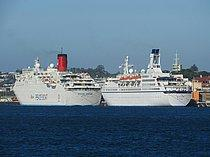Ship: (100, 48, 198, 111), (10, 50, 106, 108)
